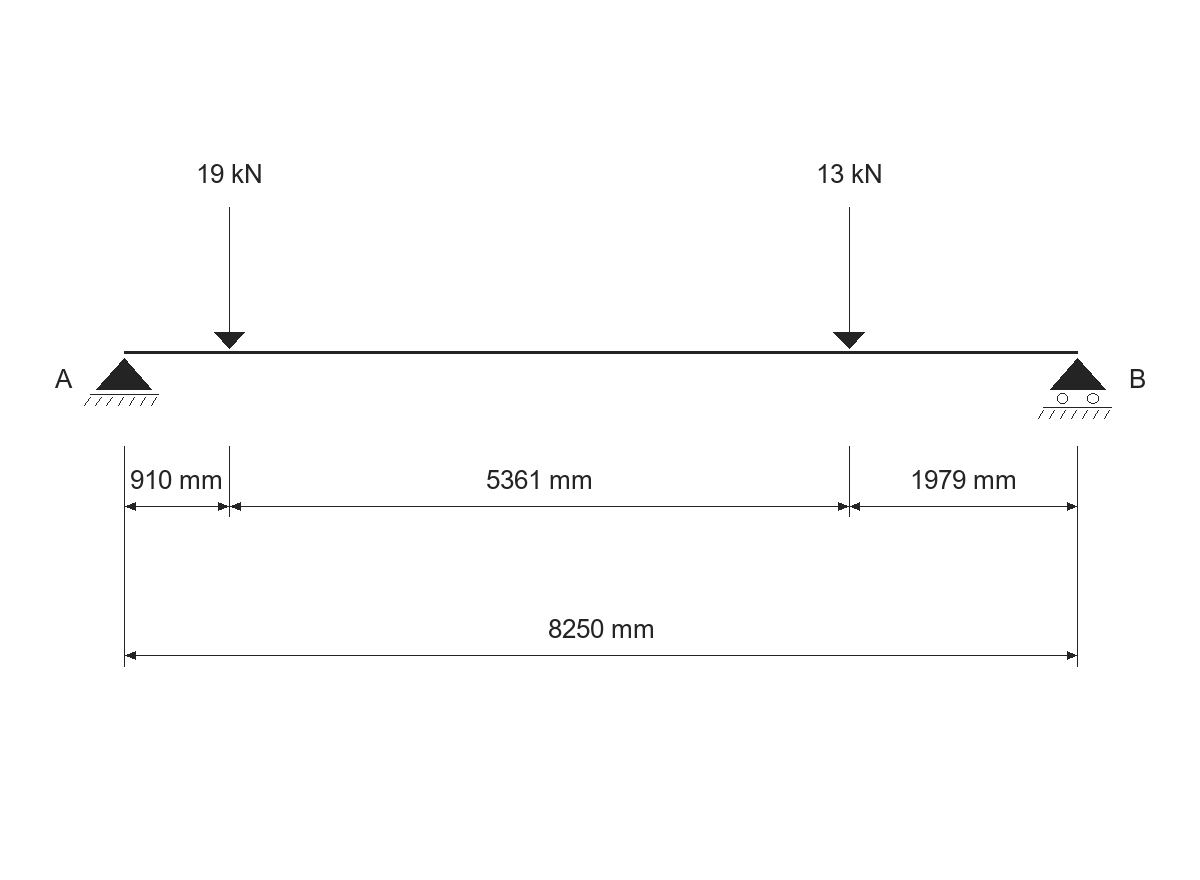pin_support: (84, 358, 159, 406)
point_load: (833, 207, 865, 349), (214, 207, 245, 349)
roller_support: (1038, 358, 1112, 419)
